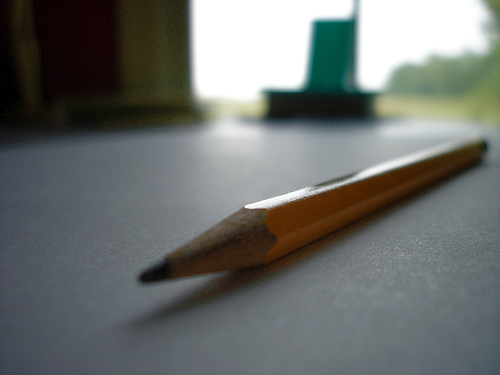pen_tip: (137, 197, 282, 302)
